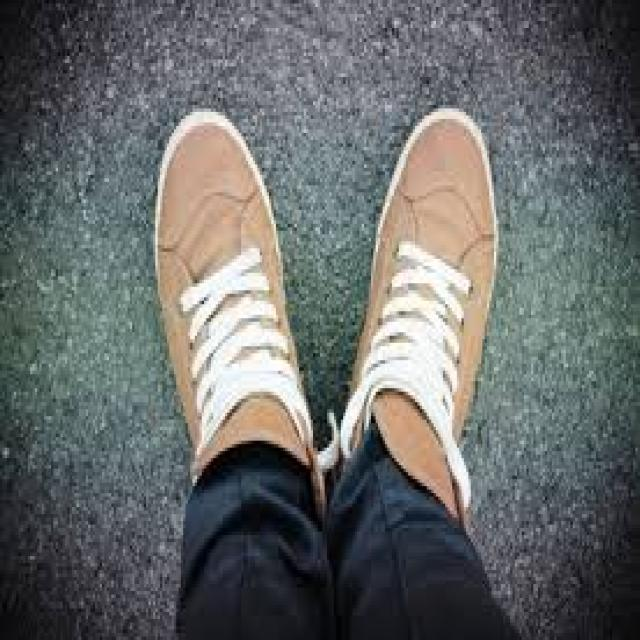shoe: (146, 101, 334, 588), (318, 101, 506, 545)
